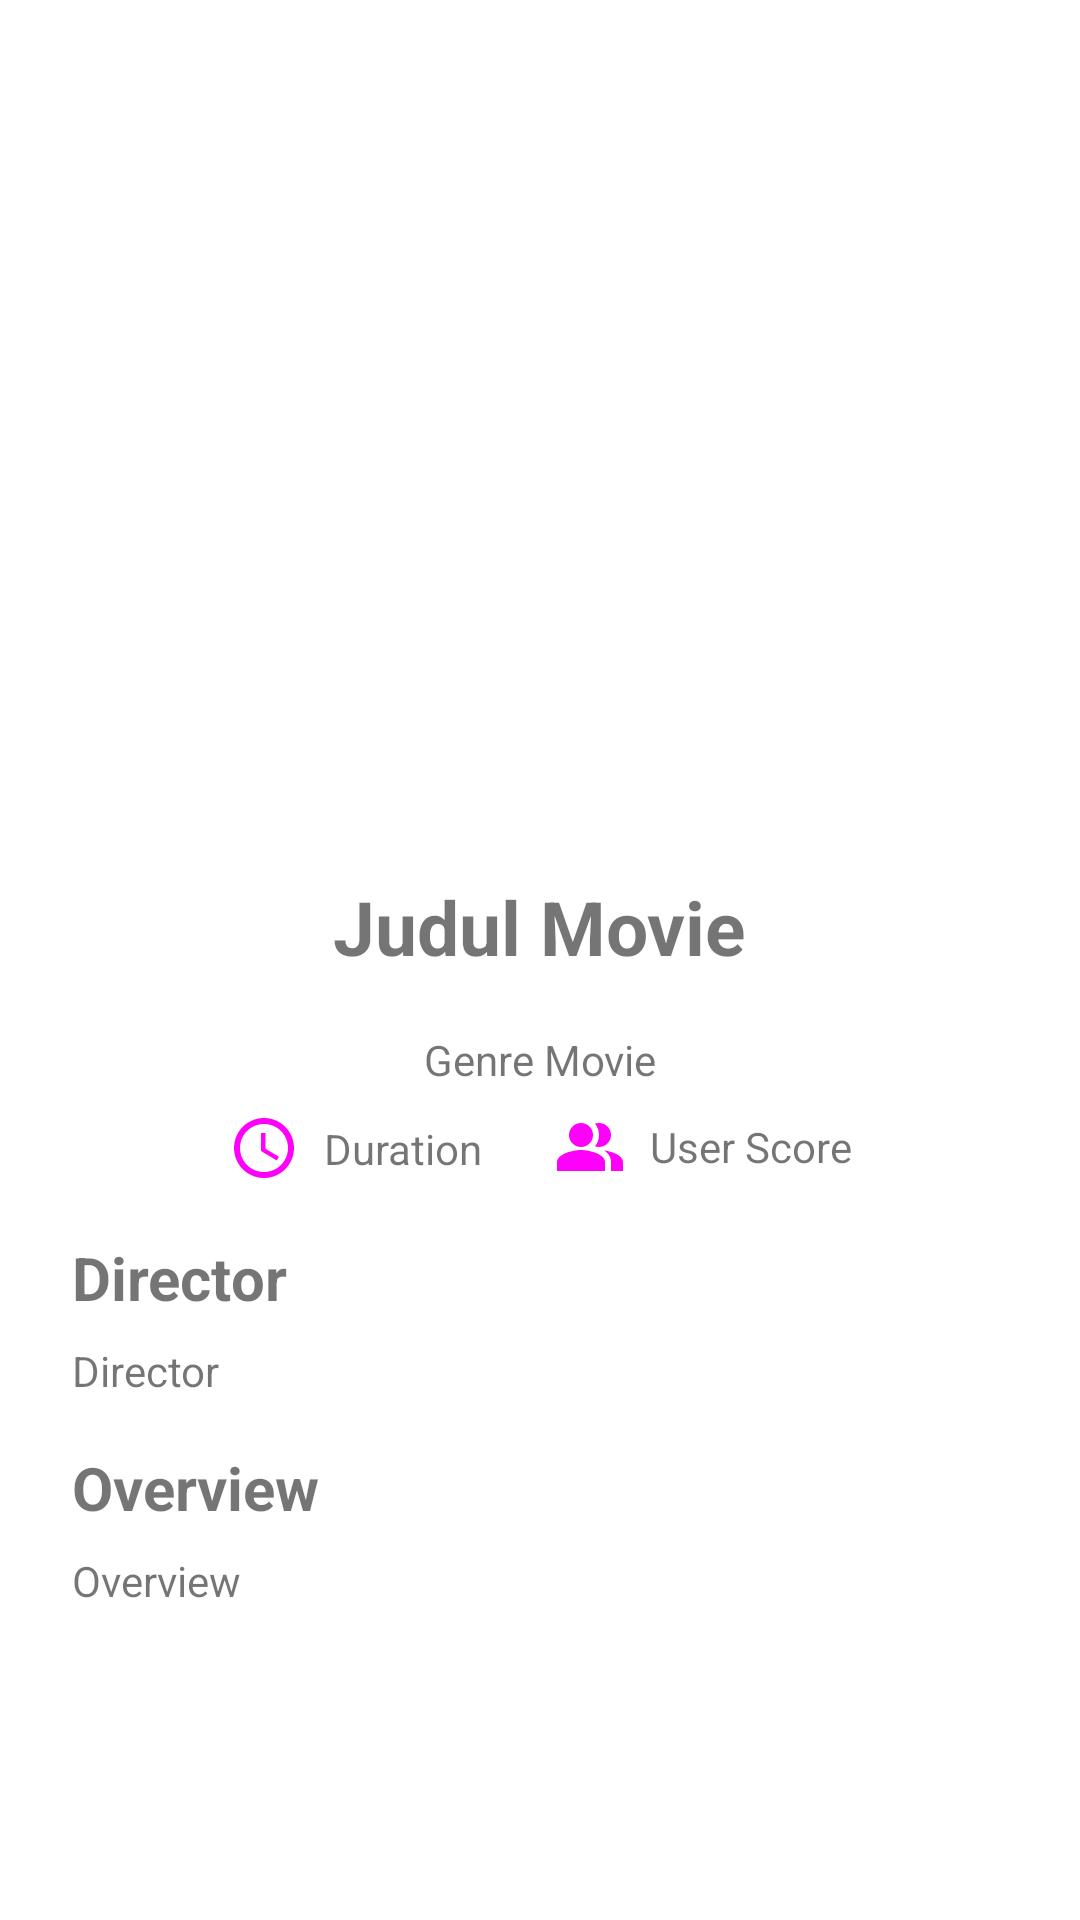

Screen size 1080w x 1920h. Icon name, then its box in pixels as BBox(x1, y1, x2, y2):
people: BBox(557, 1123, 623, 1171)
time: BBox(234, 1118, 294, 1178)
